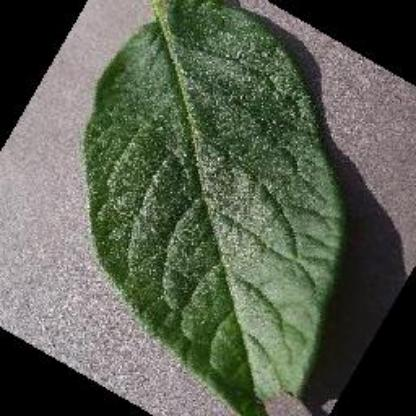Healthy-plant: (26, 12, 398, 404)
